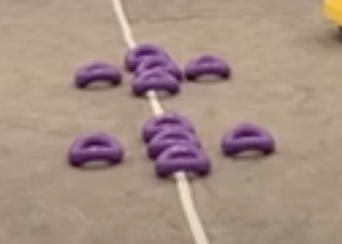ring: (69, 132, 123, 164), (155, 144, 209, 176), (221, 123, 275, 155), (143, 113, 198, 140), (149, 128, 201, 154), (124, 42, 172, 67), (135, 56, 183, 81), (184, 54, 229, 79), (133, 70, 179, 94), (75, 62, 121, 86)
